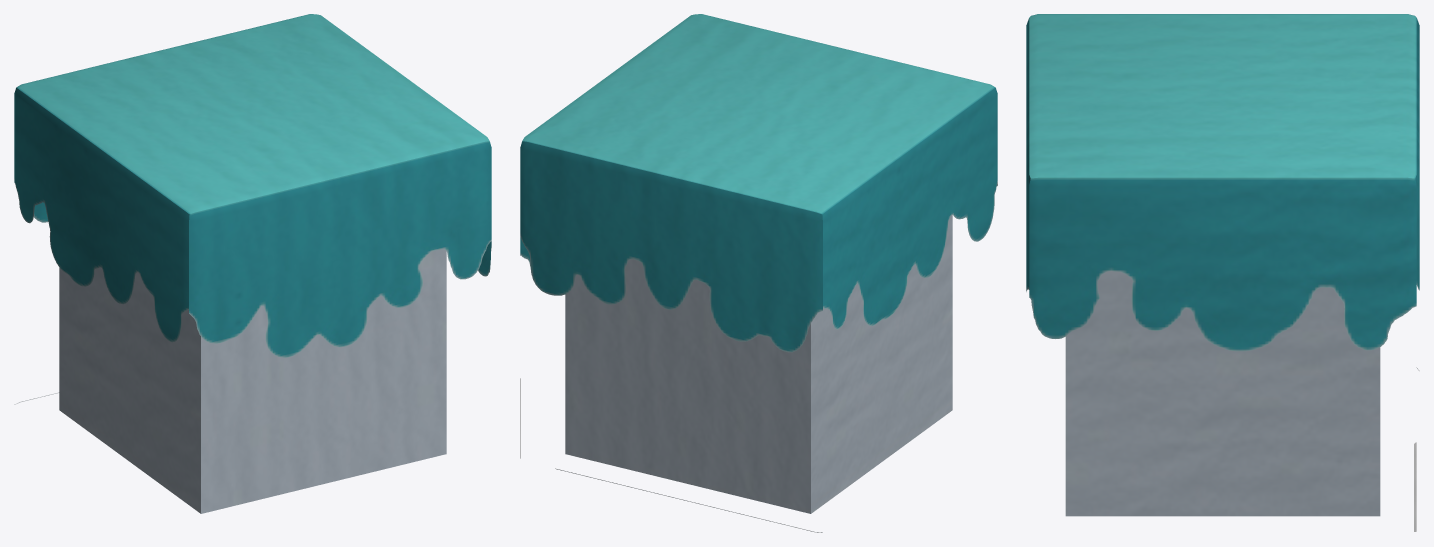
The model's file is Tile1_13.fbx.
The picture shows the model from 3 angles, left to right: view 1: azimuth 30°, elevation 25°; view 2: azimuth 150°, elevation 25°; view 3: azimuth 270°, elevation 25°; orthographic projection. The views are drawn at different scales.
Parts seen in each view (by area): view 1: Tile1_13; view 2: Tile1_13; view 3: Tile1_13.
Part boxes in pixels (bbox=[...]): Tile1_13: bbox=[14, 14, 491, 513]; Tile1_13: bbox=[520, 14, 997, 532]; Tile1_13: bbox=[1026, 14, 1419, 531].
Size of the model in its own units: 1 by 1 by 1.
1 material, 1 textured.
